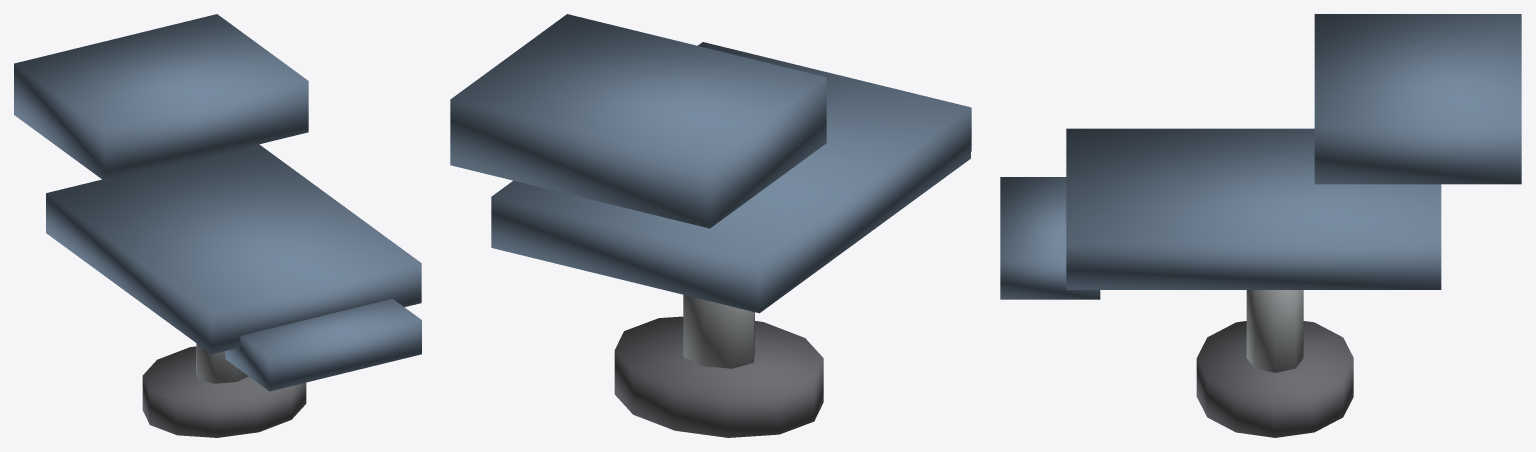
File: dentist_chair__wide.glb
3 renders of one model, left to right at view 1: azimuth 30°, elevation 25°; view 2: azimuth 150°, elevation 25°; view 3: azimuth 270°, elevation 25°, orthographic. The views are drawn at different scales.
Parts seen in each view (by area): view 1: world; view 2: world; view 3: world.
Boxes of the visible parts, x1,y1,x2,y2 form: world: (14,14,421,437); world: (450,14,971,437); world: (1000,14,1521,437).
Bounding box in the file's own units: 0.7688 × 1.01 × 1.46.
